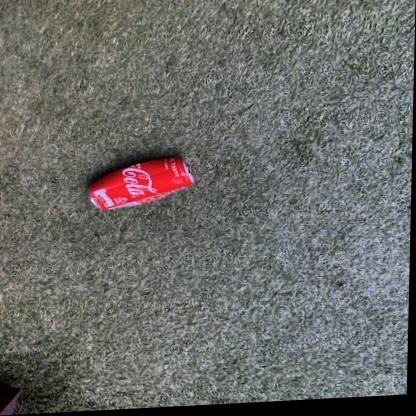trash: (89, 157, 193, 210)
